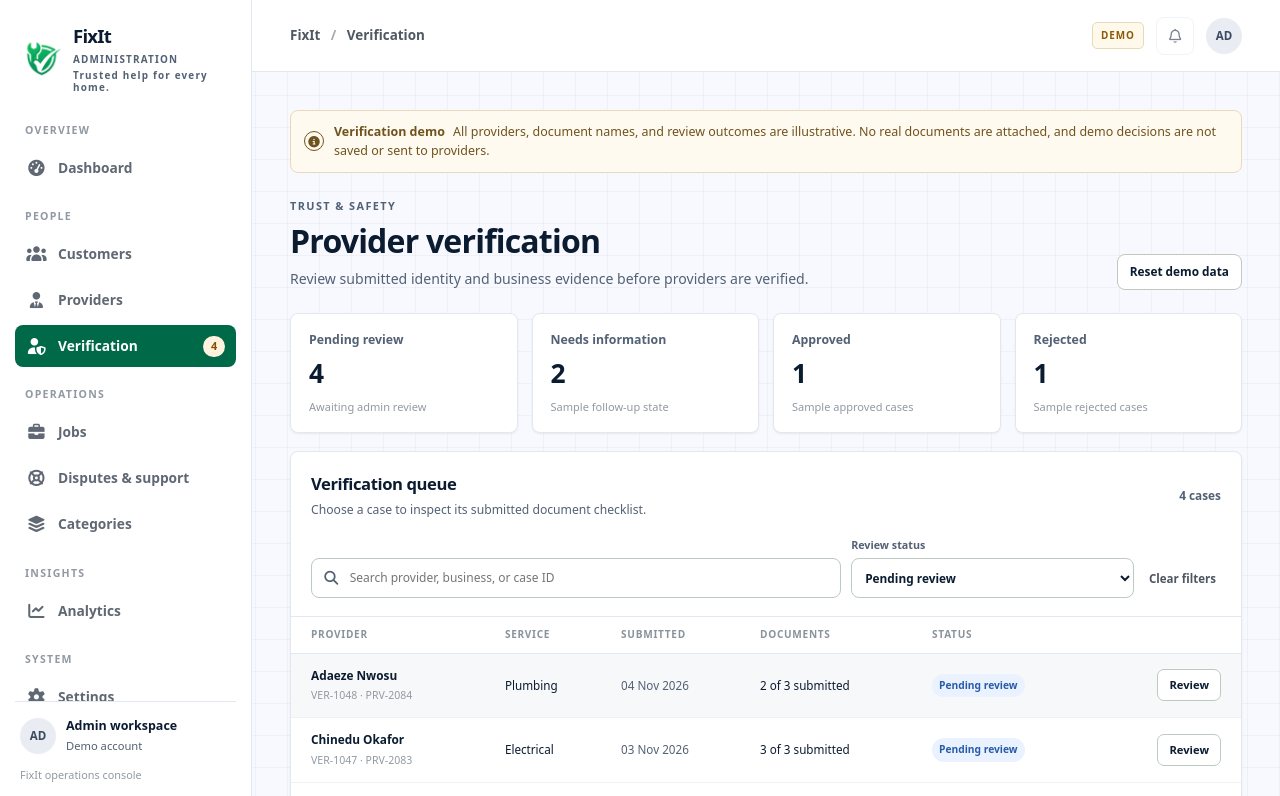
Test: FixIt admin workspace › paginates all verification cases
Select "All" in the dropdown named "Verification status" at (993, 578), box x1=851 y1=558 x2=1134 y2=598
(page scrolled)
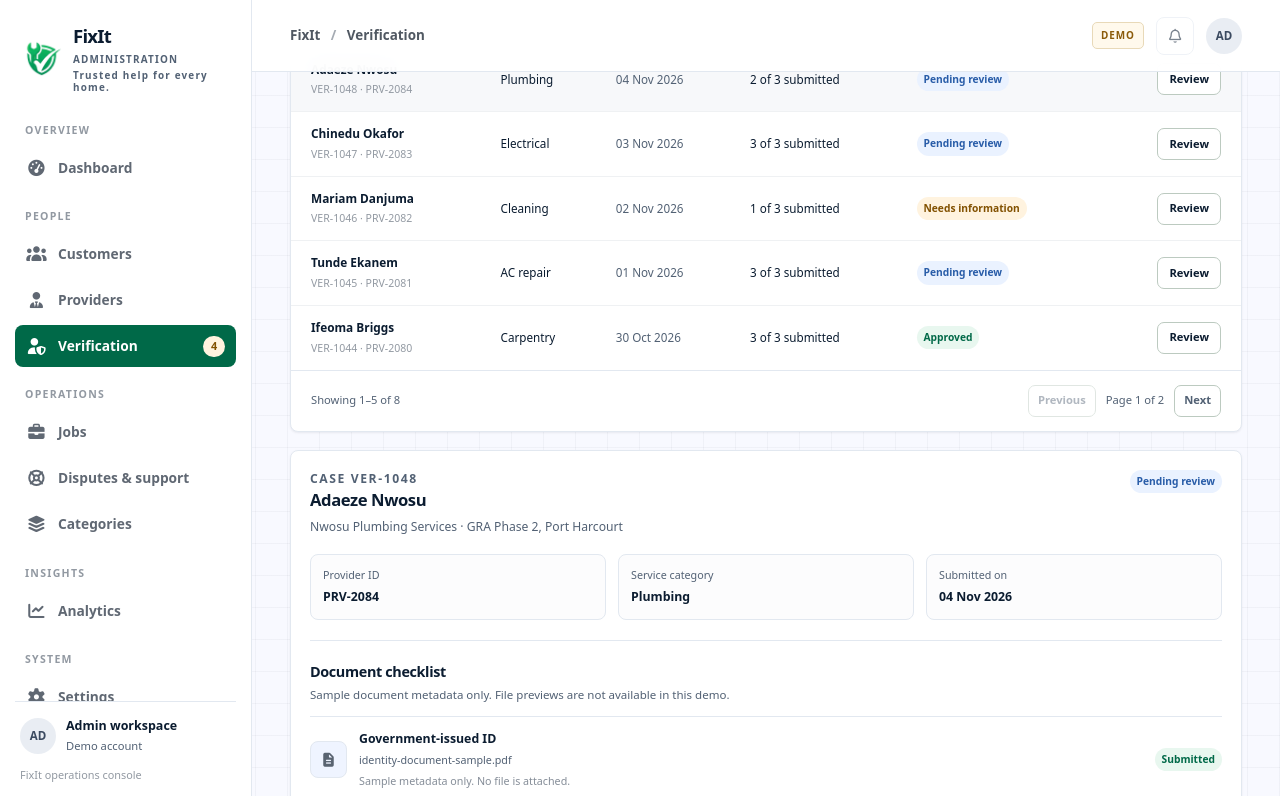
Now the text "Showing 1–5 of 8" is shown, box x1=311 y1=392 x2=400 y2=409
Click the button "Next" at (1198, 400), box x1=1174 y1=384 x2=1221 y2=416
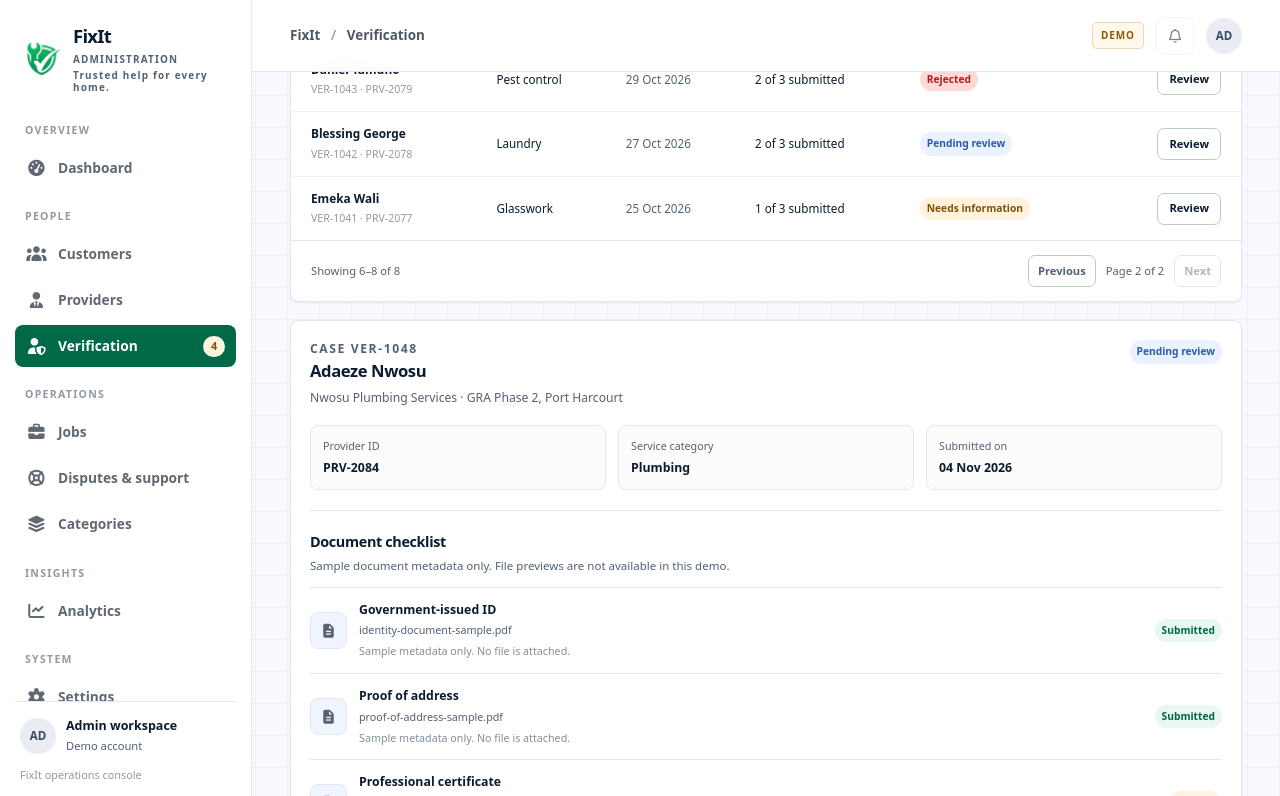
Now the text "Showing 6–8 of 8" is shown, box x1=311 y1=263 x2=400 y2=280
